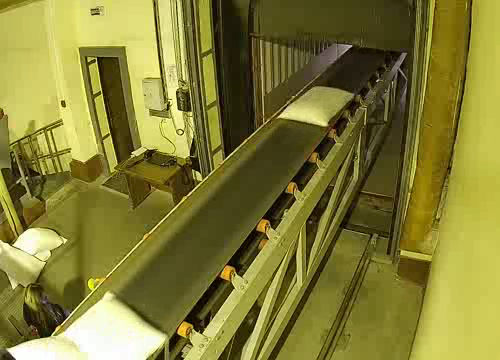bag: (5, 290, 172, 360), (273, 82, 358, 129)
